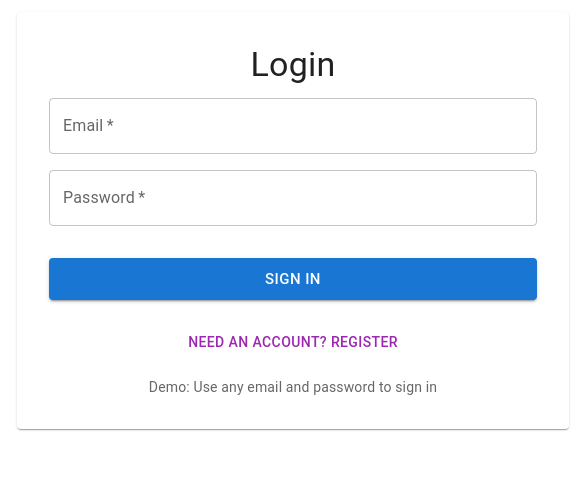
Scenario: Login Page › should show error message on failed login
Type "test@pwc.com" into the field labelled "Email *" at (293, 126), box [49,98,537,154]
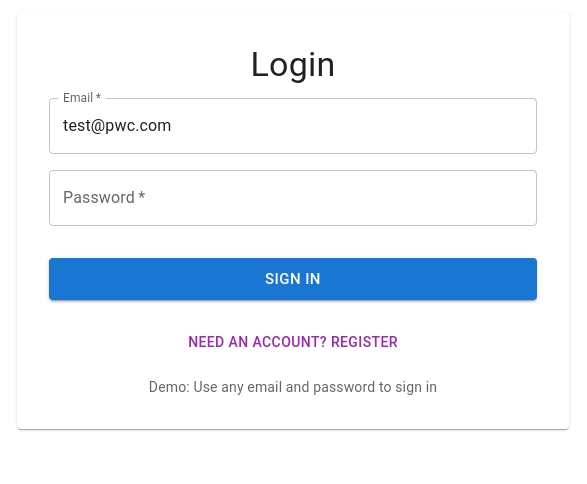
Type "wrongpassword" into the password field labelled "Password *" at (293, 198), box [49,170,537,226]
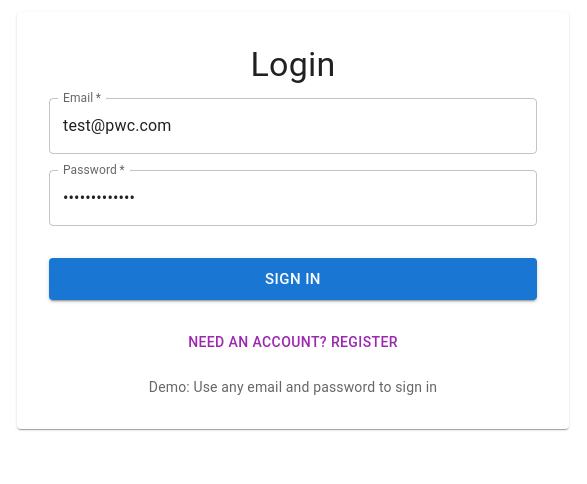
Click the button "Sign In" at (293, 279), box [49,258,537,300]
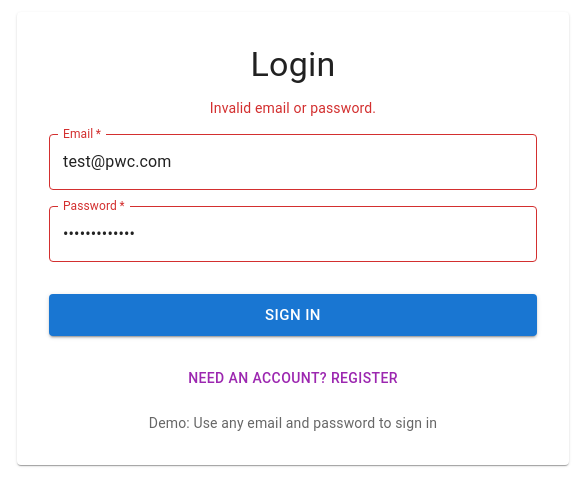
Check: the text "Invalid email or password." is shown, box [210,100,376,116]
